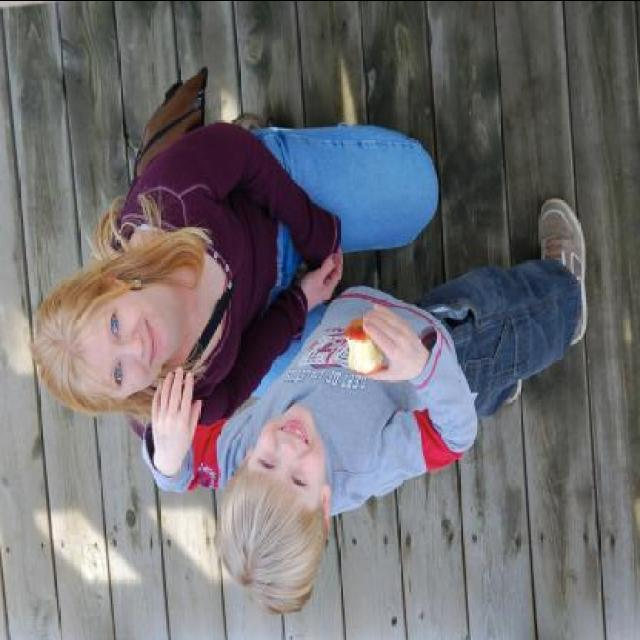Apple pie: (342, 318, 384, 374)
